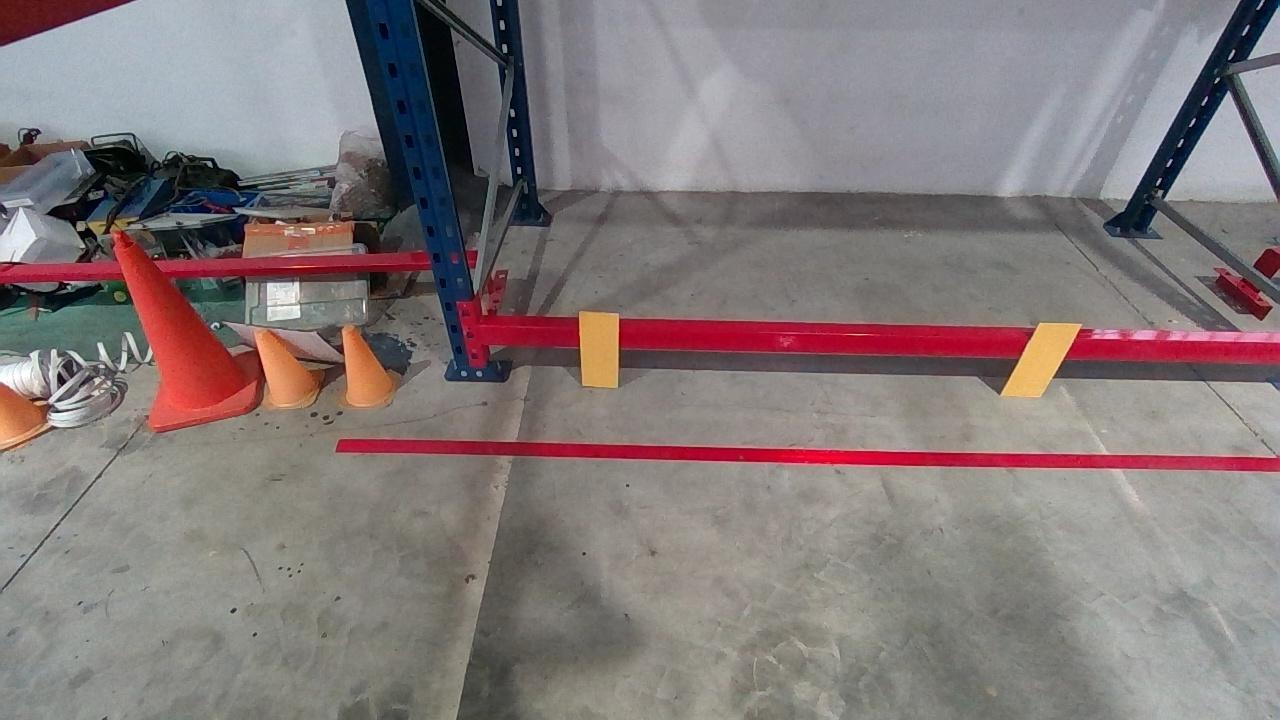h_rack: (486, 324, 1278, 361)
orange_strip: (999, 323, 1081, 396), (579, 312, 620, 387)
red_line: (335, 438, 1278, 470)
